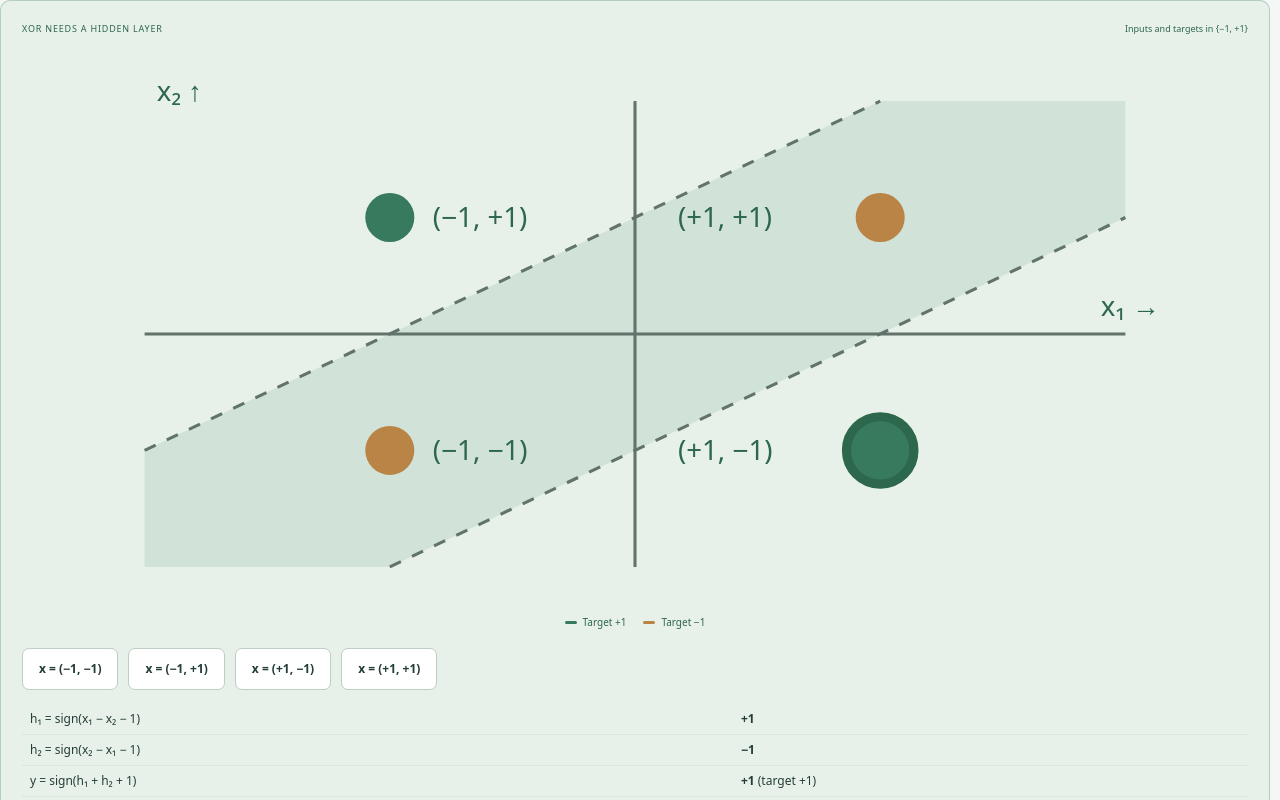
ML illustrations render and respond › updates the XOR output for the selected input
Click the button "x = (−1, −1)". click: click(70, 670)
box: [22,648,118,690]
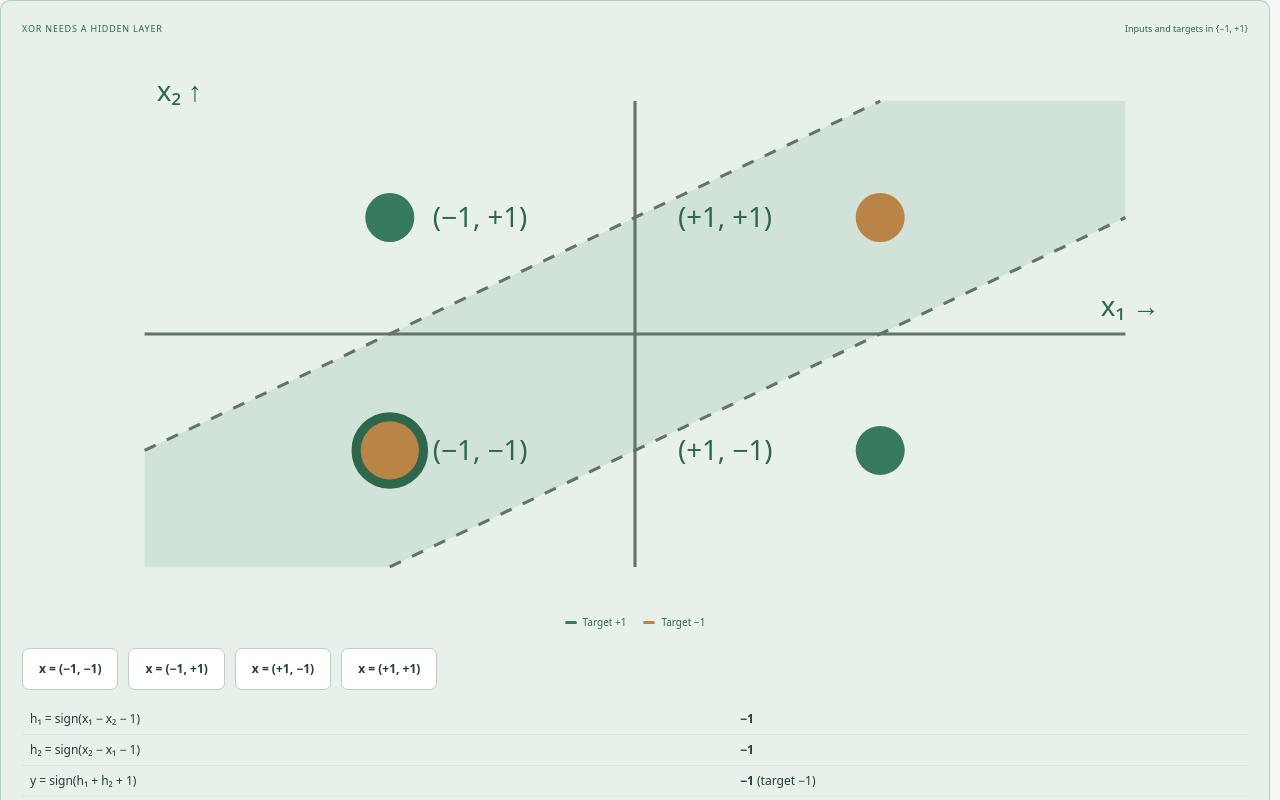
expect the text "−1 (target −1)" is shown: met, box [732,766,1248,797]
